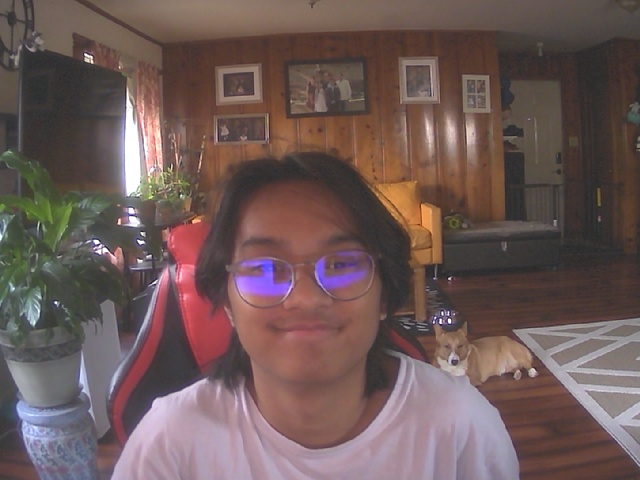happy: (218, 168, 399, 386)
